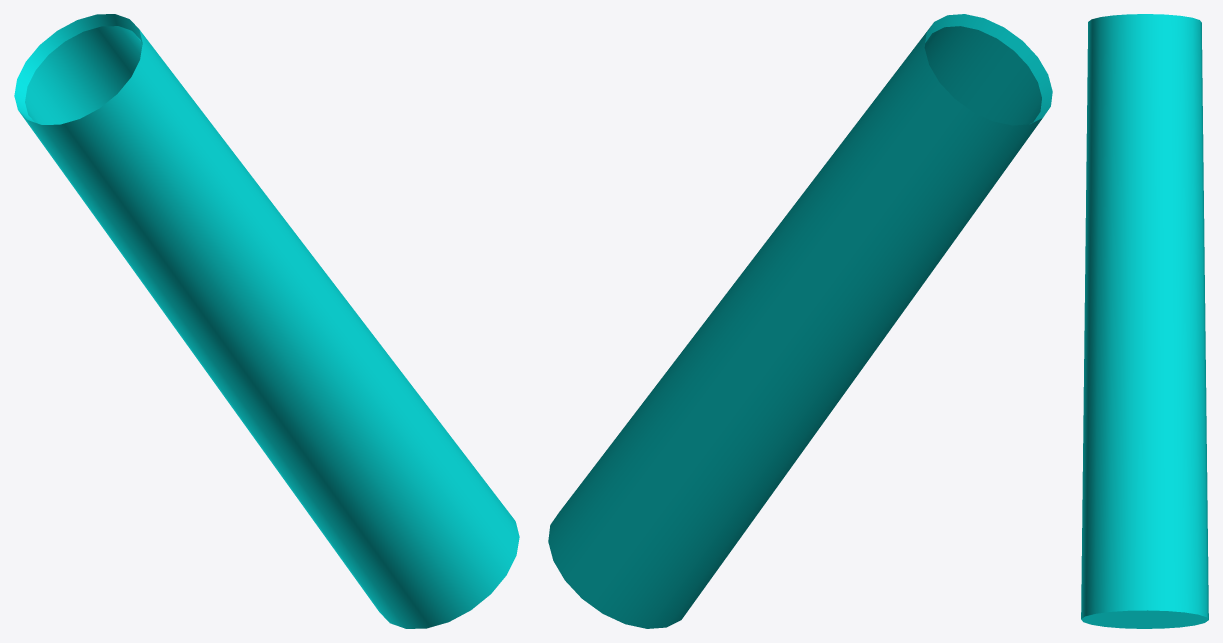
Rendered from Tester collider.fbx.
3 views of the same model, side by side, from view 1: azimuth 30°, elevation 25°; view 2: azimuth 150°, elevation 25°; view 3: azimuth 270°, elevation 25° (orthographic). The views are drawn at different scales.
Parts seen in each view (by area): view 1: Collider; view 2: Collider; view 3: Collider.
Part boxes in pixels (bbox=[...]): Collider: bbox=[14, 14, 519, 628]; Collider: bbox=[548, 14, 1052, 628]; Collider: bbox=[1081, 14, 1208, 628].
Size of the model in its own units: 21.31 by 28.12 by 6.3.
